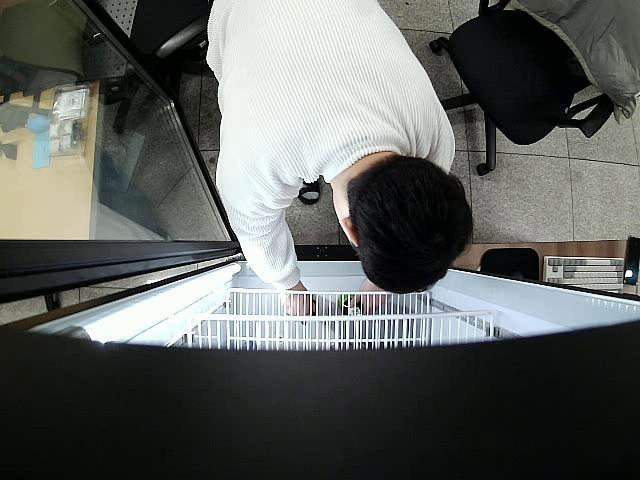19_17cha: (338, 293, 361, 316)
